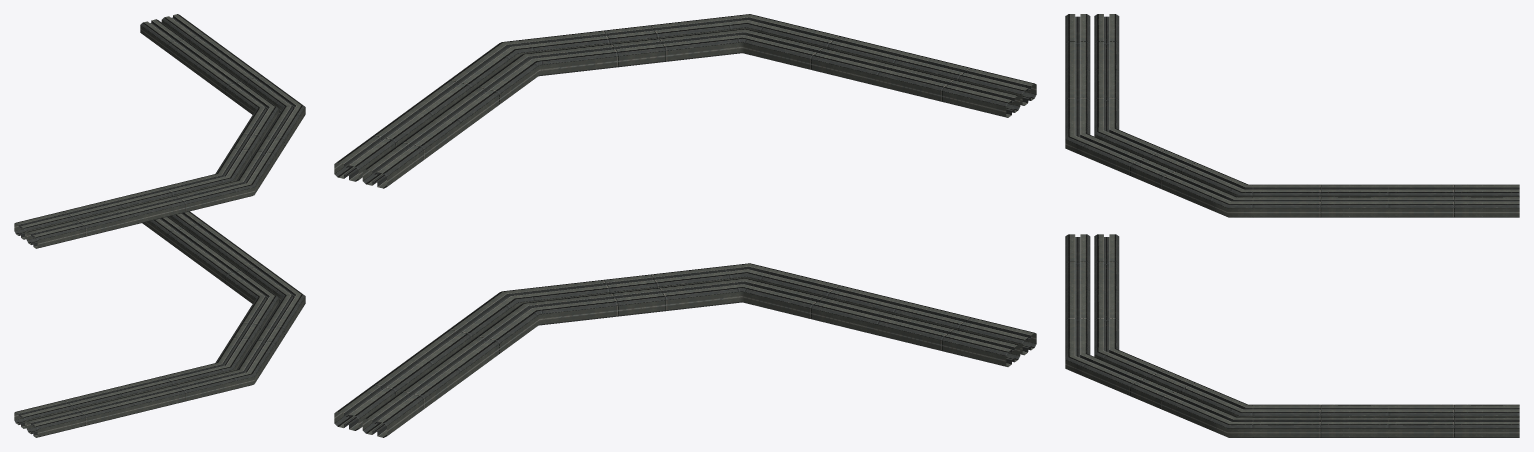
The model's file is TallWindowFrame_1x6corner.FBX.
The picture shows the model from 3 angles, left to right: view 1: azimuth 30°, elevation 25°; view 2: azimuth 150°, elevation 25°; view 3: azimuth 270°, elevation 25°; orthographic projection. The views are drawn at different scales.
Parts seen in each view (by area): view 1: TallWindowFrame_1x6corner; view 2: TallWindowFrame_1x6corner; view 3: TallWindowFrame_1x6corner.
Part boxes in pixels (x1,y1,x2,y2): TallWindowFrame_1x6corner: (14, 14, 305, 437); TallWindowFrame_1x6corner: (334, 14, 1036, 437); TallWindowFrame_1x6corner: (1065, 14, 1519, 437).
Size of the model in its own units: 6.91 by 3.92 by 6.91.
